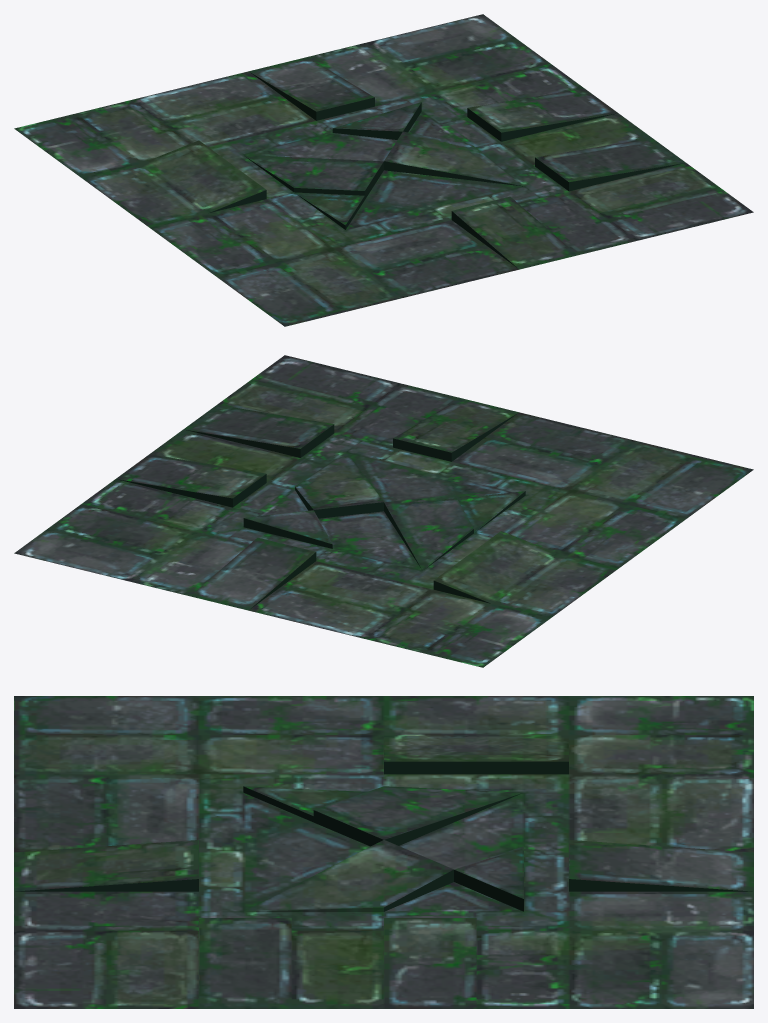
The model's file is stemple_floor_blank_01_c.fbx.
3 renders of one model, top to bottom at view 1: azimuth 30°, elevation 25°; view 2: azimuth 150°, elevation 25°; view 3: azimuth 270°, elevation 25°, orthographic. The views are drawn at different scales.
Visible parts, largest first — view 1: stemple_floor_blank_01_c-0; view 2: stemple_floor_blank_01_c-0; view 3: stemple_floor_blank_01_c-0.
Part boxes in pixels (bbox=[...]): stemple_floor_blank_01_c-0: bbox=[14, 14, 753, 326]; stemple_floor_blank_01_c-0: bbox=[14, 355, 753, 667]; stemple_floor_blank_01_c-0: bbox=[14, 696, 753, 1008].
Size of the model in its own units: 4 by 0.0762 by 4.
